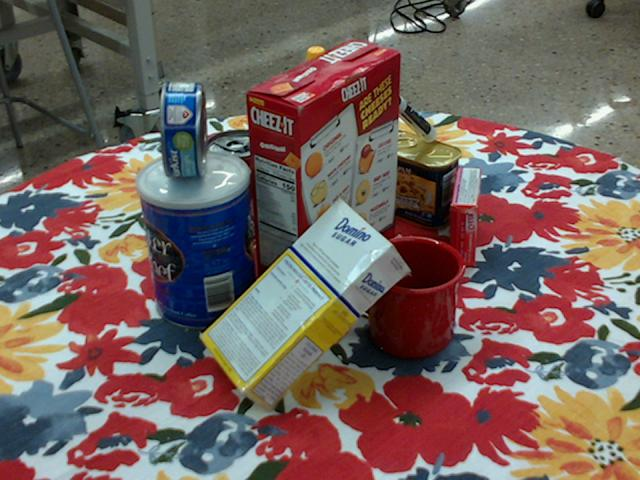cracker_box: (244, 40, 401, 309)
gelatin_box: (449, 166, 481, 266)
large_marker: (378, 84, 437, 140)
master_chef_can: (137, 151, 255, 332)
mug: (338, 234, 464, 358)
mustard_bottle: (281, 46, 361, 222)
potted_meat_can: (370, 128, 462, 228)
sugar_box: (200, 199, 409, 416)
tomato_soup_can: (206, 129, 274, 239)
tuna_fish_can: (160, 81, 204, 177)
